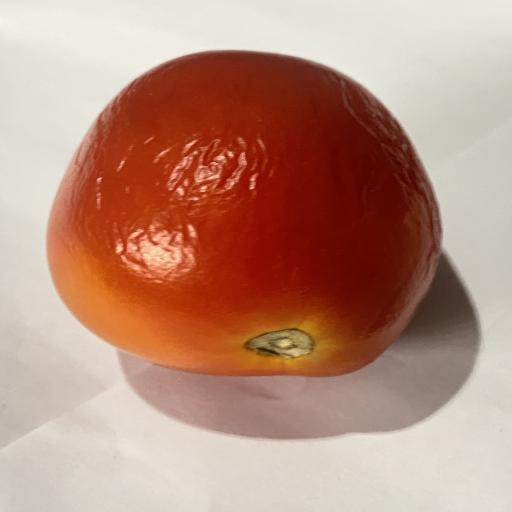spoiled: (47, 51, 441, 376)
